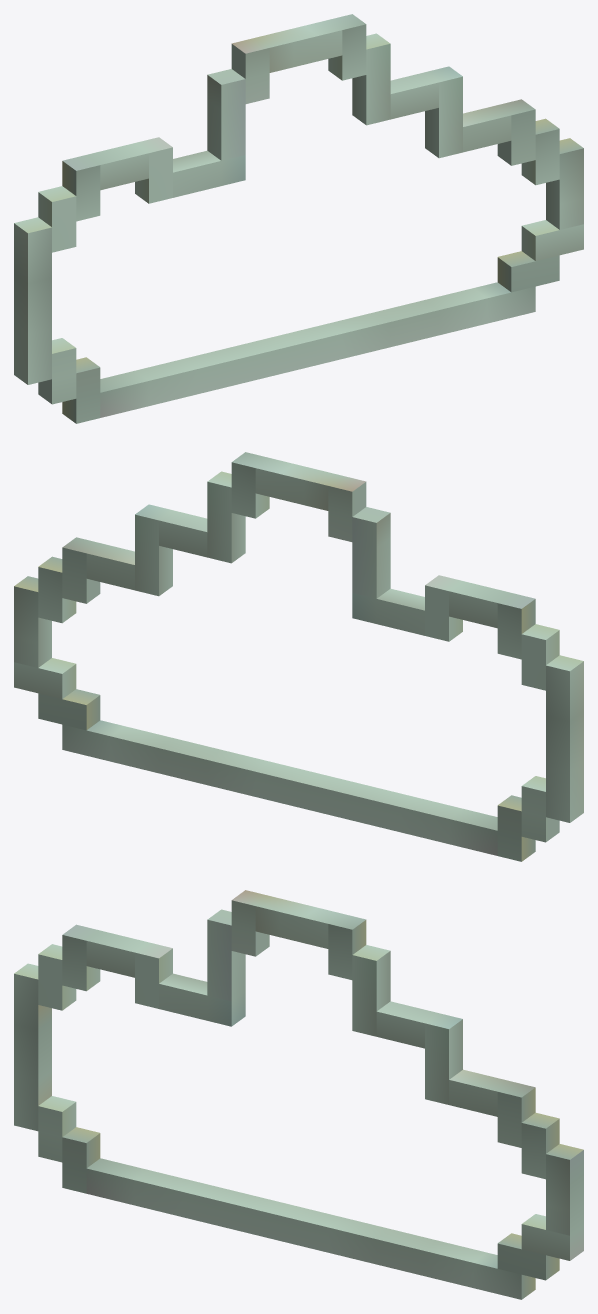
The model's file is WallDecorCloudOutlineBig_00.obj.
3 renders of one model, top to bottom at view 1: azimuth 30°, elevation 25°; view 2: azimuth 150°, elevation 25°; view 3: azimuth 330°, elevation 25°, orthographic.
Parts seen in each view (by area): view 1: WallDecorCloudOutlineBig_00; view 2: WallDecorCloudOutlineBig_00; view 3: WallDecorCloudOutlineBig_00.
Boxes of the visible parts, x1=… form: WallDecorCloudOutlineBig_00: x1=14, y1=14, x2=583, y2=423; WallDecorCloudOutlineBig_00: x1=14, y1=452, x2=583, y2=861; WallDecorCloudOutlineBig_00: x1=14, y1=890, x2=583, y2=1299.
Bounding box in the file's own units: 1.15 × 0.65 × 0.05.
